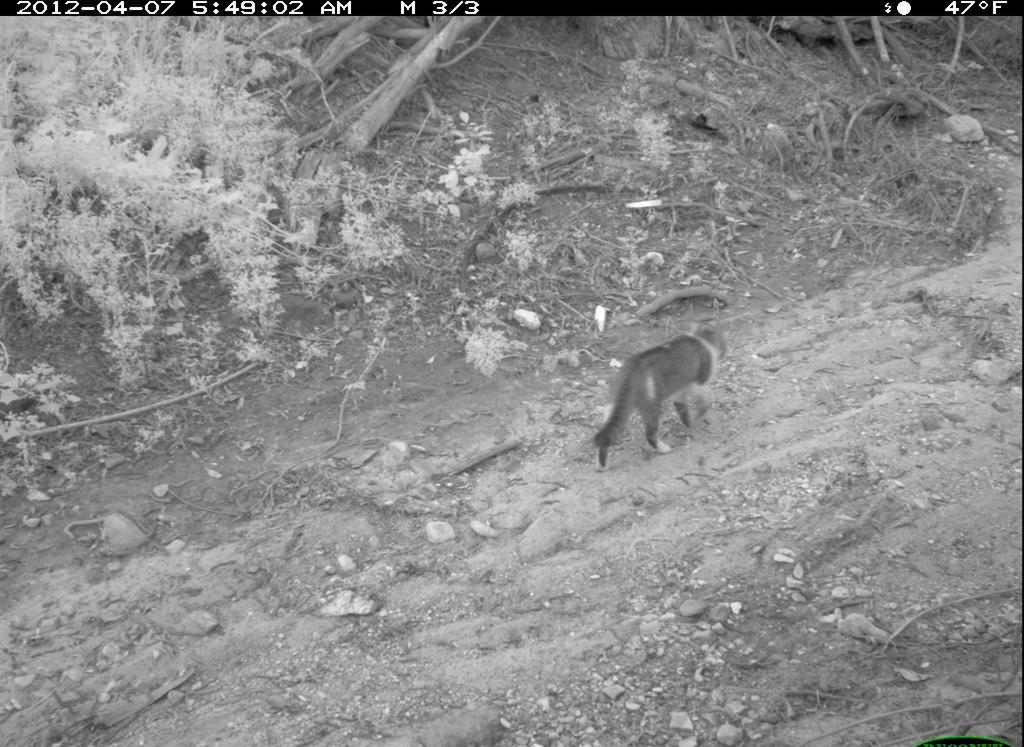cat: (582, 321, 739, 477)
